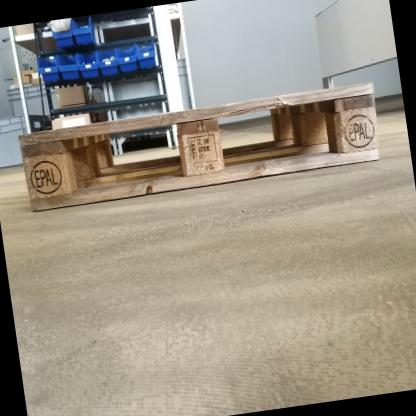BoxFace: (16, 78, 383, 217)
